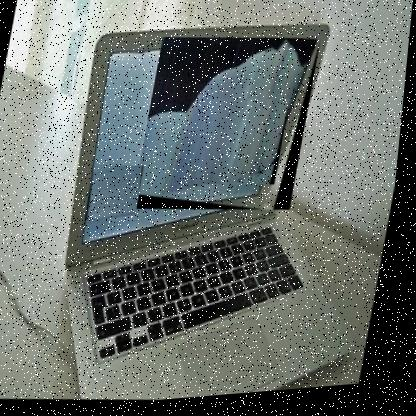crack: (134, 31, 323, 227)
lines: (197, 98, 293, 196), (88, 164, 148, 228)
